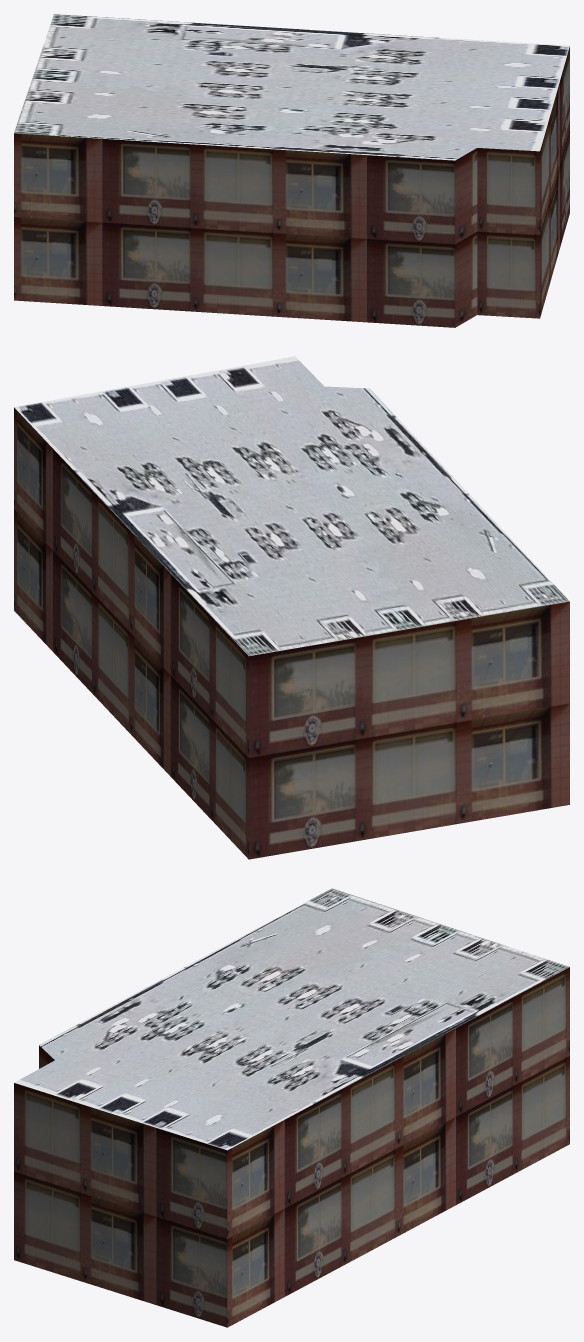
File: ResTex__2917.fbx
3 views of the same model, one above another, from view 1: azimuth 30°, elevation 25°; view 2: azimuth 150°, elevation 25°; view 3: azimuth 270°, elevation 25° (orthographic). The views are drawn at different scales.
Parts seen in each view (by area): view 1: CityEngineMaterial_13_m, CityEngineMaterial_4_m; view 2: CityEngineMaterial_13_m, CityEngineMaterial_4_m; view 3: CityEngineMaterial_13_m, CityEngineMaterial_4_m.
Part boxes in pixels (x1,y1,x2,y2): CityEngineMaterial_13_m: (14, 46, 569, 327); CityEngineMaterial_4_m: (14, 14, 569, 160); CityEngineMaterial_13_m: (14, 407, 569, 859); CityEngineMaterial_4_m: (14, 356, 569, 655); CityEngineMaterial_13_m: (14, 967, 569, 1327); CityEngineMaterial_4_m: (14, 888, 569, 1150).
Bounding box in the file's own units: 19.02 × 6 × 17.05.
Materials: 2 (2 with a texture image).
